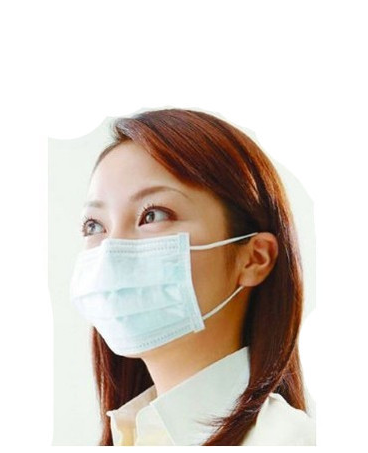face_mask: (74, 140, 230, 352)
